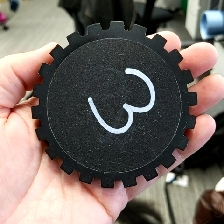gear: (30, 20, 199, 190)
